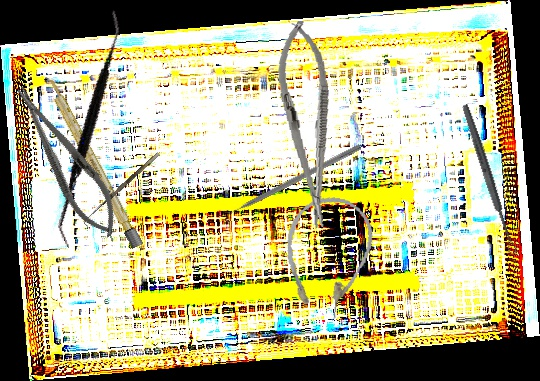Cannula: (273, 189, 380, 324)
Chopper: (218, 136, 362, 220)
Hook Surgical: (81, 151, 164, 228)
Needle Holder: (2, 76, 131, 246), (272, 19, 343, 230)
Scalpel Handle: (41, 72, 144, 250)
Spatula Surgical: (2, 9, 180, 249)
Surgical Spoon: (459, 103, 519, 256)
